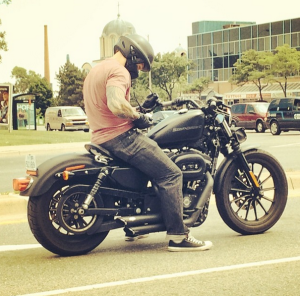helmet: (83, 33, 259, 186)
